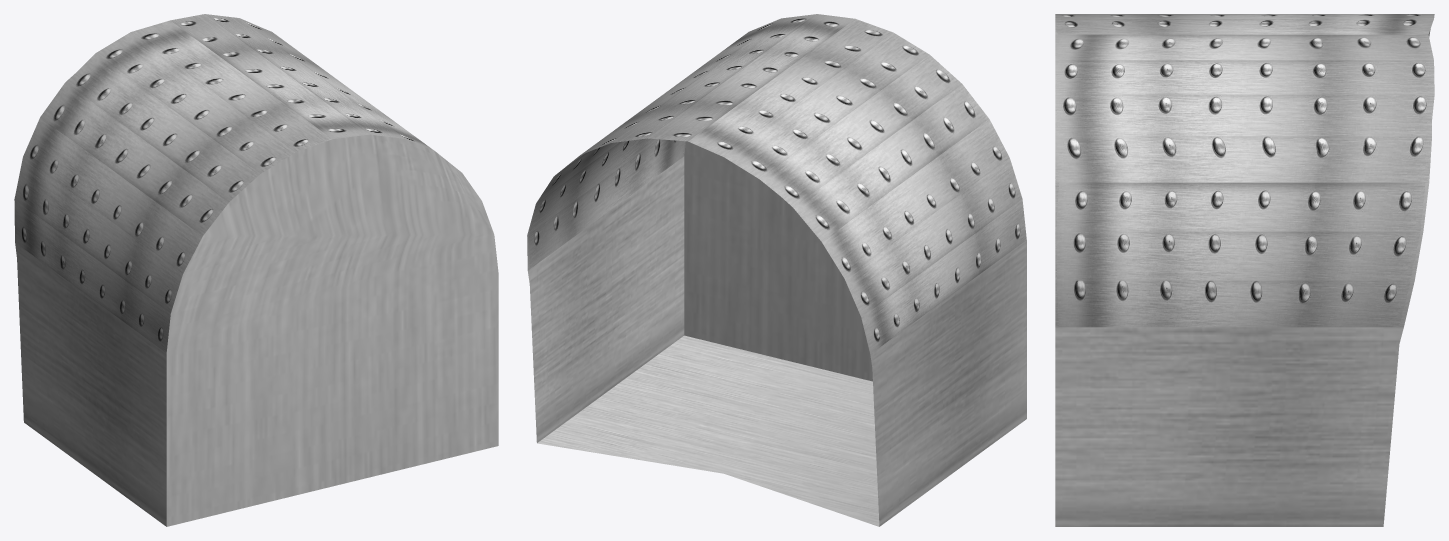
The model's file is Entrada.obj.
The picture shows the model from 3 angles, left to right: view 1: azimuth 30°, elevation 25°; view 2: azimuth 150°, elevation 25°; view 3: azimuth 270°, elevation 25°; orthographic projection. The views are drawn at different scales.
Visible parts, largest first — view 1: polySurface1 Fachada:polySurface2; view 2: polySurface1 Fachada:polySurface2; view 3: polySurface1 Fachada:polySurface2.
Boxes of the visible parts, box(x1,y1,x2,y2) form: polySurface1 Fachada:polySurface2: box(14, 14, 498, 526); polySurface1 Fachada:polySurface2: box(527, 14, 1026, 526); polySurface1 Fachada:polySurface2: box(1055, 14, 1434, 526).
Size of the model in its own units: 1.11 by 1.11 by 0.9528.
Materials: 1 (1 with a texture image).
